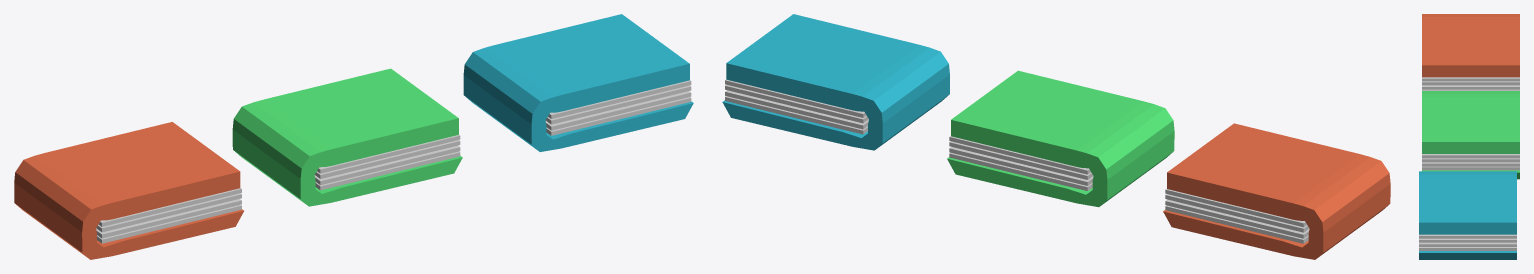
File: kitap.fbx
3 views of the same model, side by side, from view 1: azimuth 30°, elevation 25°; view 2: azimuth 150°, elevation 25°; view 3: azimuth 270°, elevation 25° (orthographic). The views are drawn at different scales.
Parts seen in each view (by area): view 1: polySurface4 (×3), polySurface1 (×3), polySurface3 (×3), polySurface10 (×3), polySurface9 (×3), polySurface8 (×3), polySurface12 (×3), polySurface7 (×3), polySurface6 (×3), polySurface11 (×3), polySurface5 (×3); view 2: polySurface4 (×3), polySurface1 (×3), polySurface3 (×3), polySurface10 (×3), polySurface9 (×3), polySurface8 (×3), polySurface12 (×3), polySurface7 (×3), polySurface6 (×3), polySurface11 (×3), polySurface5 (×3); view 3: polySurface1 (×3), polySurface4 (×3), polySurface7 (×3), polySurface9 (×3), polySurface5 (×3), polySurface3 (×2), polySurface11 (×3).
Part boxes in pixels (x1,y1,x2,y2): polySurface4 (×3): (14, 29, 632, 259); polySurface1 (×3): (109, 14, 689, 203); polySurface3 (×3): (174, 101, 693, 241); polySurface10 (×3): (96, 108, 621, 238); polySurface9 (×3): (170, 91, 691, 221); polySurface8 (×3): (96, 102, 621, 232); polySurface12 (×3): (97, 114, 621, 243); polySurface7 (×3): (171, 85, 691, 215); polySurface6 (×3): (98, 97, 621, 226); polySurface11 (×3): (171, 97, 691, 226); polySurface5 (×3): (171, 80, 691, 209); polySurface4 (×3): (782, 29, 1390, 259); polySurface1 (×3): (726, 14, 1296, 204); polySurface3 (×3): (722, 100, 1232, 241); polySurface10 (×3): (794, 107, 1309, 238); polySurface9 (×3): (725, 90, 1236, 221); polySurface8 (×3): (794, 101, 1309, 232); polySurface12 (×3): (794, 113, 1308, 243); polySurface7 (×3): (725, 84, 1235, 215); polySurface6 (×3): (794, 96, 1306, 227); polySurface11 (×3): (725, 96, 1235, 226); polySurface5 (×3): (725, 79, 1235, 210); polySurface1 (×3): (1419, 43, 1519, 234); polySurface4 (×3): (1419, 14, 1519, 200); polySurface7 (×3): (1419, 81, 1519, 242); polySurface9 (×3): (1419, 85, 1519, 246); polySurface5 (×3): (1419, 77, 1519, 238); polySurface3 (×2): (1419, 170, 1519, 259); polySurface11 (×3): (1419, 89, 1519, 250).
Size of the model in its own units: 16.14 by 1.37 by 3.2.
